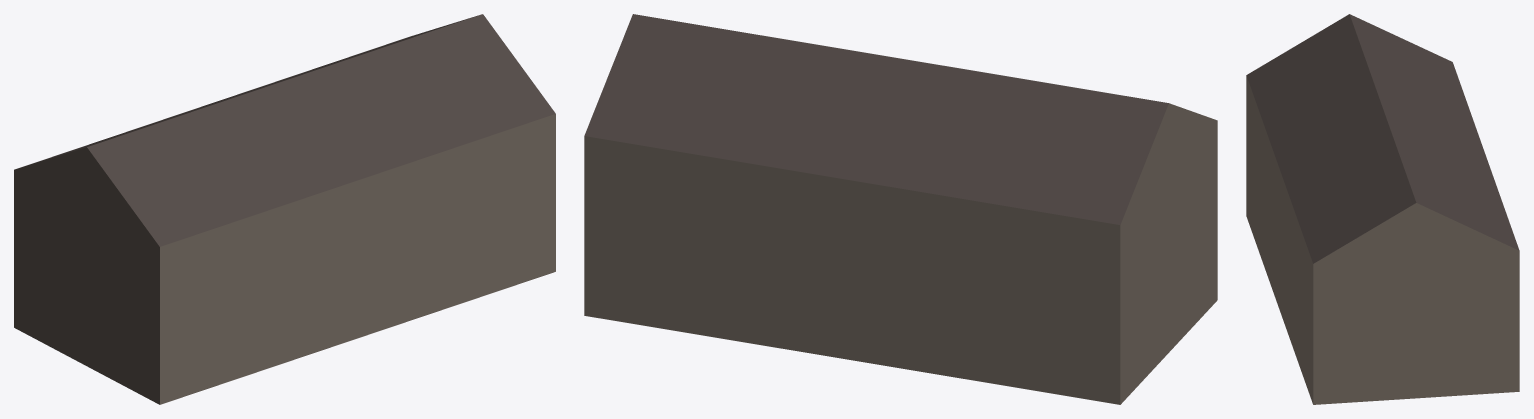
3 views of the same model, side by side, from view 1: azimuth 30°, elevation 25°; view 2: azimuth 150°, elevation 25°; view 3: azimuth 270°, elevation 25° (orthographic). The views are drawn at different scales.
Visible parts, largest first — view 1: HP-w1200785663; view 2: HP-w1200785663; view 3: HP-w1200785663.
Boxes of the visible parts, x1,y1,x2,y2 form: HP-w1200785663: [14, 14, 555, 404]; HP-w1200785663: [584, 14, 1217, 404]; HP-w1200785663: [1246, 14, 1519, 404].
Size of the model in its own units: 27.65 by 12.49 by 15.81.
